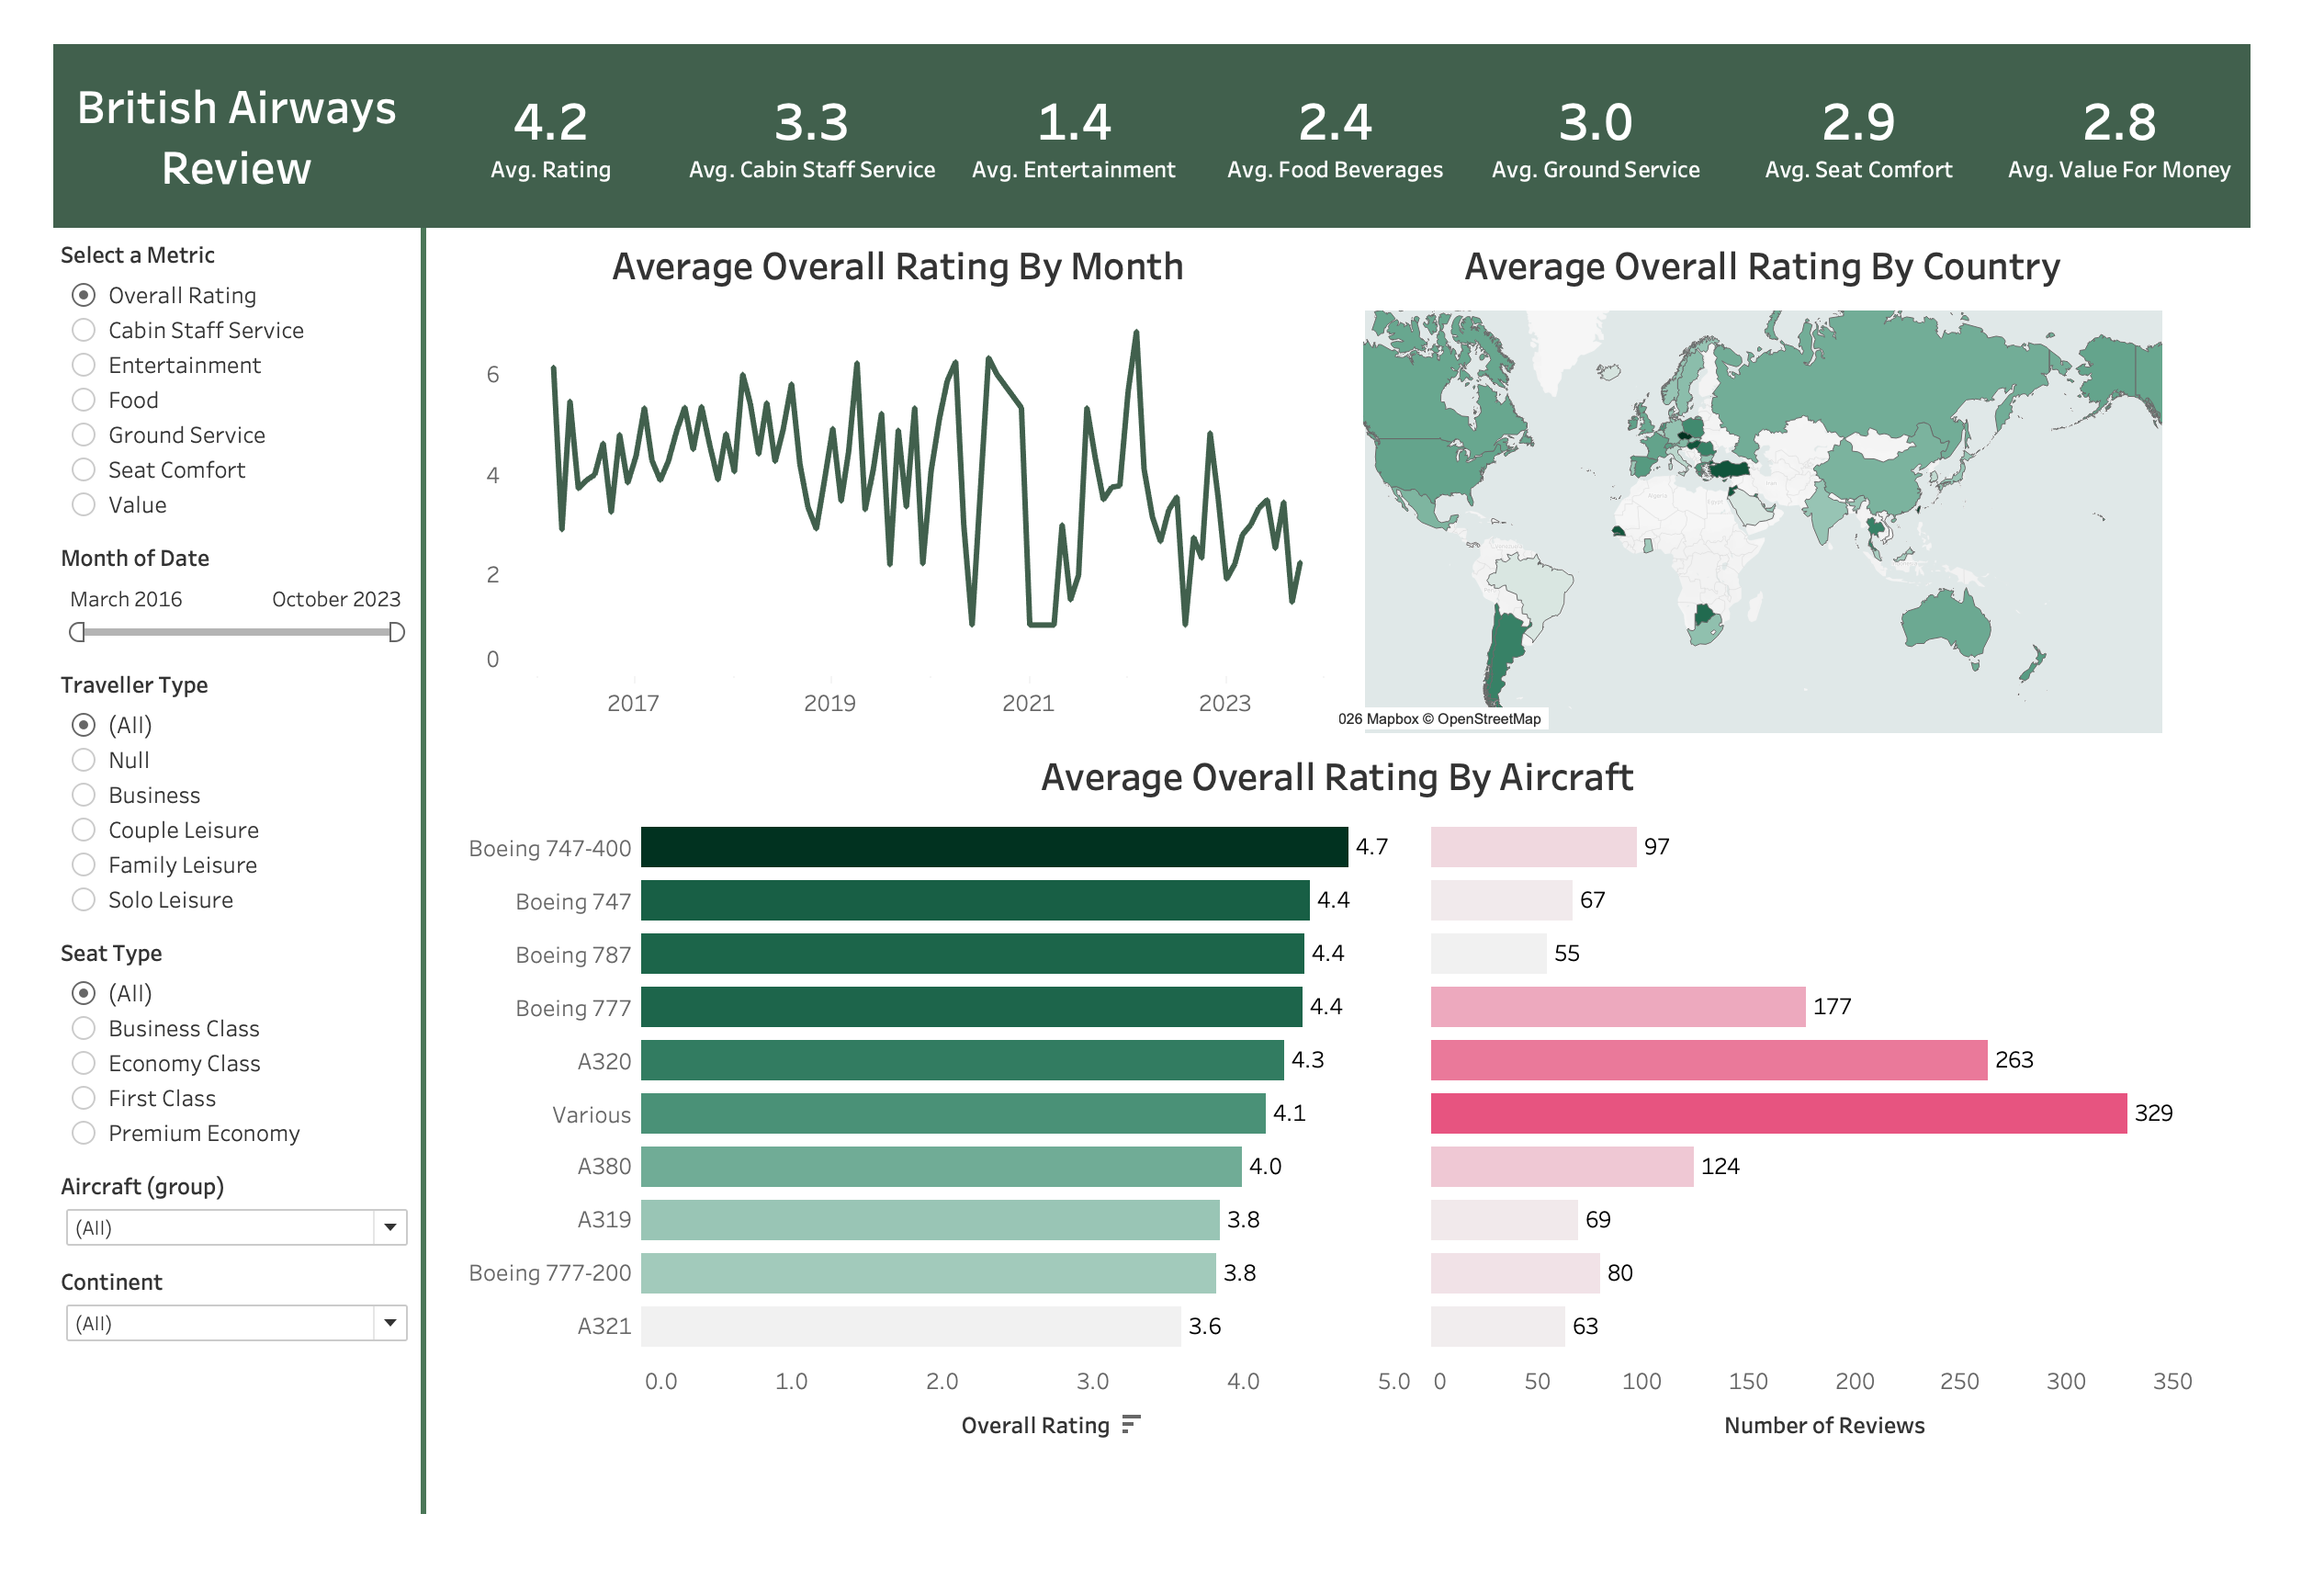

The dashboard page shown, as its layout file describes it:
{"tool":"tableau","page":{"name":"British Airways Review","canvas":[1200,800],"ordinal":0},"visuals":[{"type":"text","box":[0,0,200,100]},{"type":"worksheet","title":"Summary","mark":"Automatic","box":[200,0,996,100]},{"type":"blank","box":[200,100,3,700]},{"type":"parameter","param":"[Parameters].[Parameter 0282162678693888]","box":[0,102,200,165]},{"type":"worksheet","title":"Month","mark":"Automatic","rows":["Calculation_0282162679570434"],"cols":["date"],"box":[220,102,480,271]},{"type":"worksheet","title":"Map","mark":"Automatic","box":[681,102,499,273]},{"type":"filter","title":"Map","param":"[federated.05v787z1t264jr1fwrxpz0ngvfx8].[tmn:date:qk]","box":[0,267,200,69]},{"type":"filter","title":"Map","param":"[federated.05v787z1t264jr1fwrxpz0ngvfx8].[none:traveller_type:nk]","box":[0,336,200,146]},{"type":"worksheet","title":"Aircraft","mark":"Automatic","cols":["Calculation_0282162679570434","ba_reviews.csv_DC71AD7AC2BE40C7B1FE48D157C2A96E"],"box":[220,380,959,387]},{"type":"filter","title":"Map","param":"[federated.05v787z1t264jr1fwrxpz0ngvfx8].[none:seat_type:nk]","box":[0,482,200,127]},{"type":"filter","title":"Map","param":"[federated.05v787z1t264jr1fwrxpz0ngvfx8].[Aircraft (group)]","box":[0,609,200,52]},{"type":"filter","title":"Map","param":"[federated.05v787z1t264jr1fwrxpz0ngvfx8].[none:Continent:nk]","box":[0,661,200,52]}]}

Visuals, with their boxes in screenshot pixels (x1, y1, x2, y2), scaled from the page's 1200x800 canvas onto the 2324x1593 screenshot:
text: l=0, t=0, r=388, b=199
"Summary" worksheet: l=388, t=0, r=2317, b=199
blank: l=388, t=199, r=393, b=1592
parameter: l=0, t=203, r=388, b=532
"Month" worksheet: l=426, t=203, r=1356, b=742
"Map" worksheet: l=1319, t=203, r=2285, b=747
"Map" filter: l=0, t=532, r=388, b=669
"Map" filter: l=0, t=669, r=388, b=960
"Aircraft" worksheet: l=426, t=757, r=2284, b=1527
"Map" filter: l=0, t=960, r=388, b=1213
"Map" filter: l=0, t=1213, r=388, b=1316
"Map" filter: l=0, t=1316, r=388, b=1419
